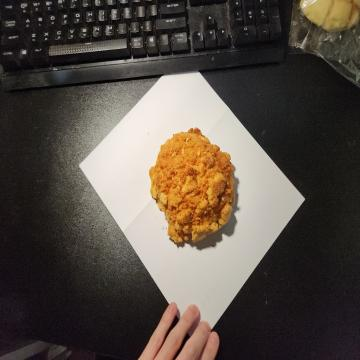soboru_bread: (147, 127, 236, 245)
